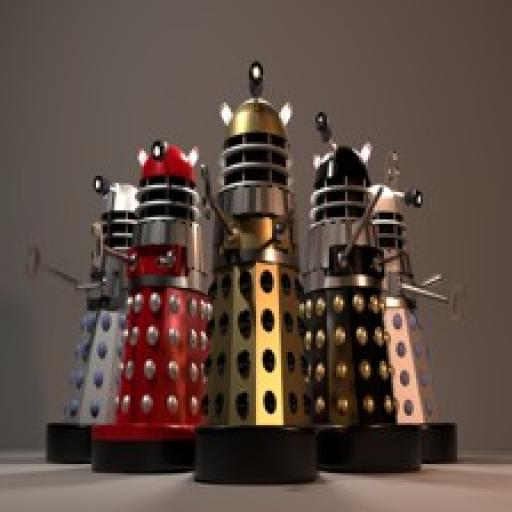dalek: (197, 58, 323, 490), (362, 148, 470, 464), (296, 114, 390, 474), (28, 173, 138, 456)
